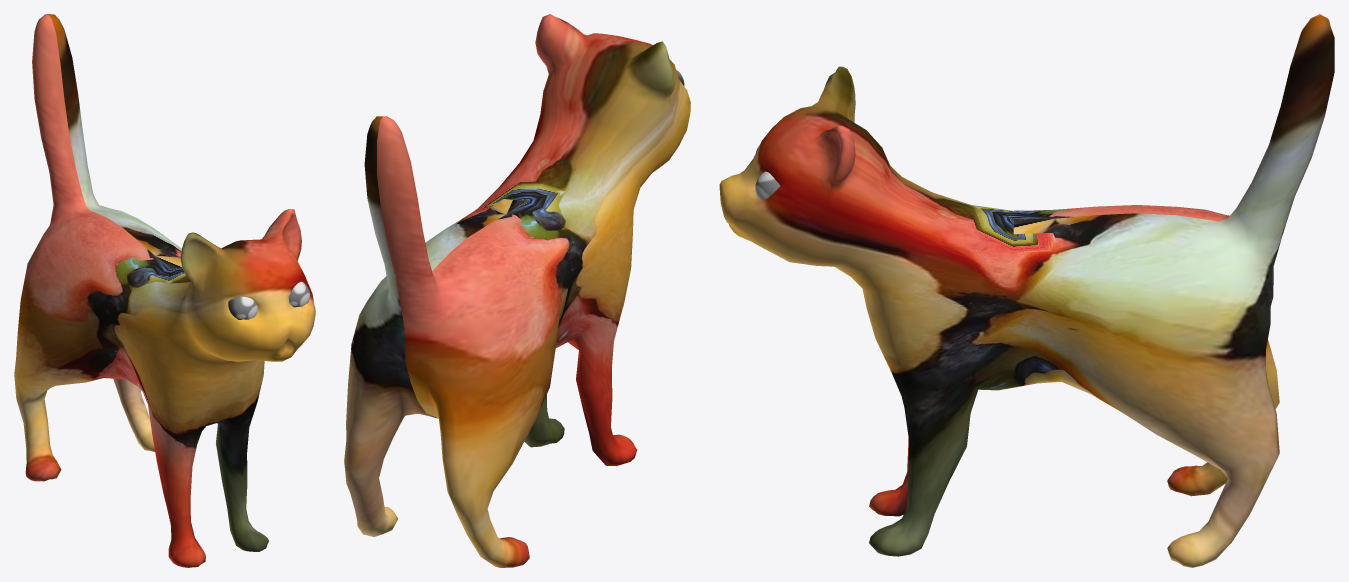
The model's file is kat_3.fbx.
The picture shows the model from 3 angles, left to right: view 1: azimuth 30°, elevation 25°; view 2: azimuth 150°, elevation 25°; view 3: azimuth 270°, elevation 25°; orthographic projection. The views are drawn at different scales.
Visible parts, largest first — view 1: cat; view 2: cat; view 3: cat.
Part boxes in pixels (x1,y1,x2,y2): cat: (14, 14, 315, 567); cat: (344, 14, 690, 567); cat: (719, 14, 1334, 567).
Size of the model in its own units: 0.2693 by 0.7316 by 0.7894.
1 material, 1 textured.
